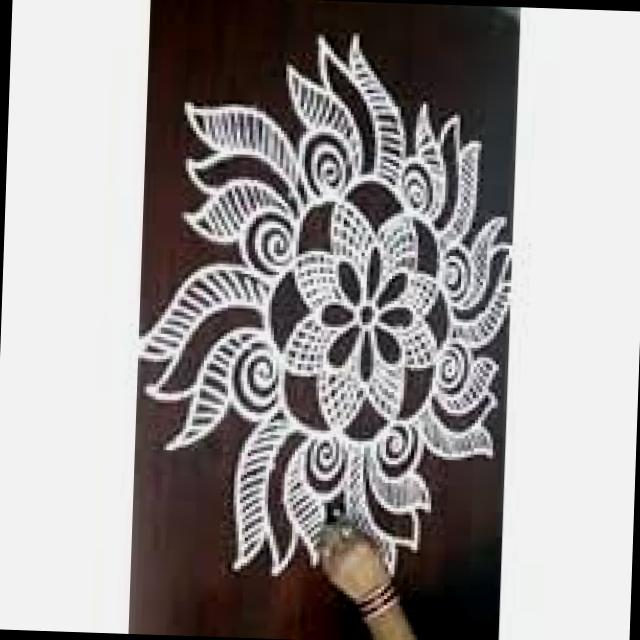rangoli: (143, 30, 516, 590)
